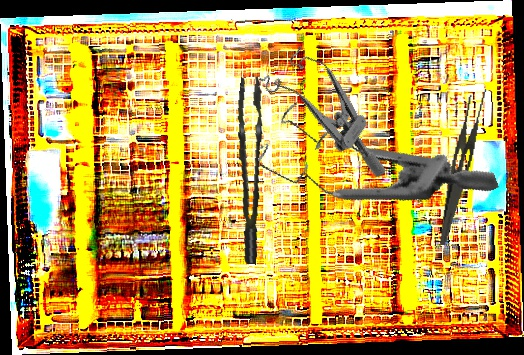Dressing Forceps: (438, 85, 489, 249)
Speculum: (243, 45, 500, 265), (249, 36, 418, 180)
Tissue Forceps: (218, 75, 279, 265)
